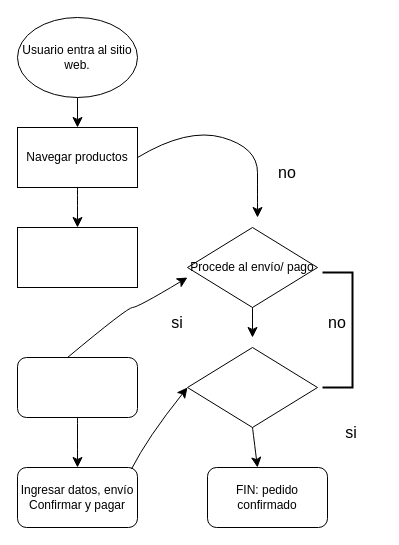
Some shapes in this 399 by 545 pixel diagram are drawn without their labels. The shapes that lost their labels are listed below. From the top down, each one's centre as x and y in pixels, then its label:
At pixel 77 257: "Añadir producto al carrito".
At pixel 77 387: "Proceder al pago".
At pixel 252 387: "Pago aprobado".
